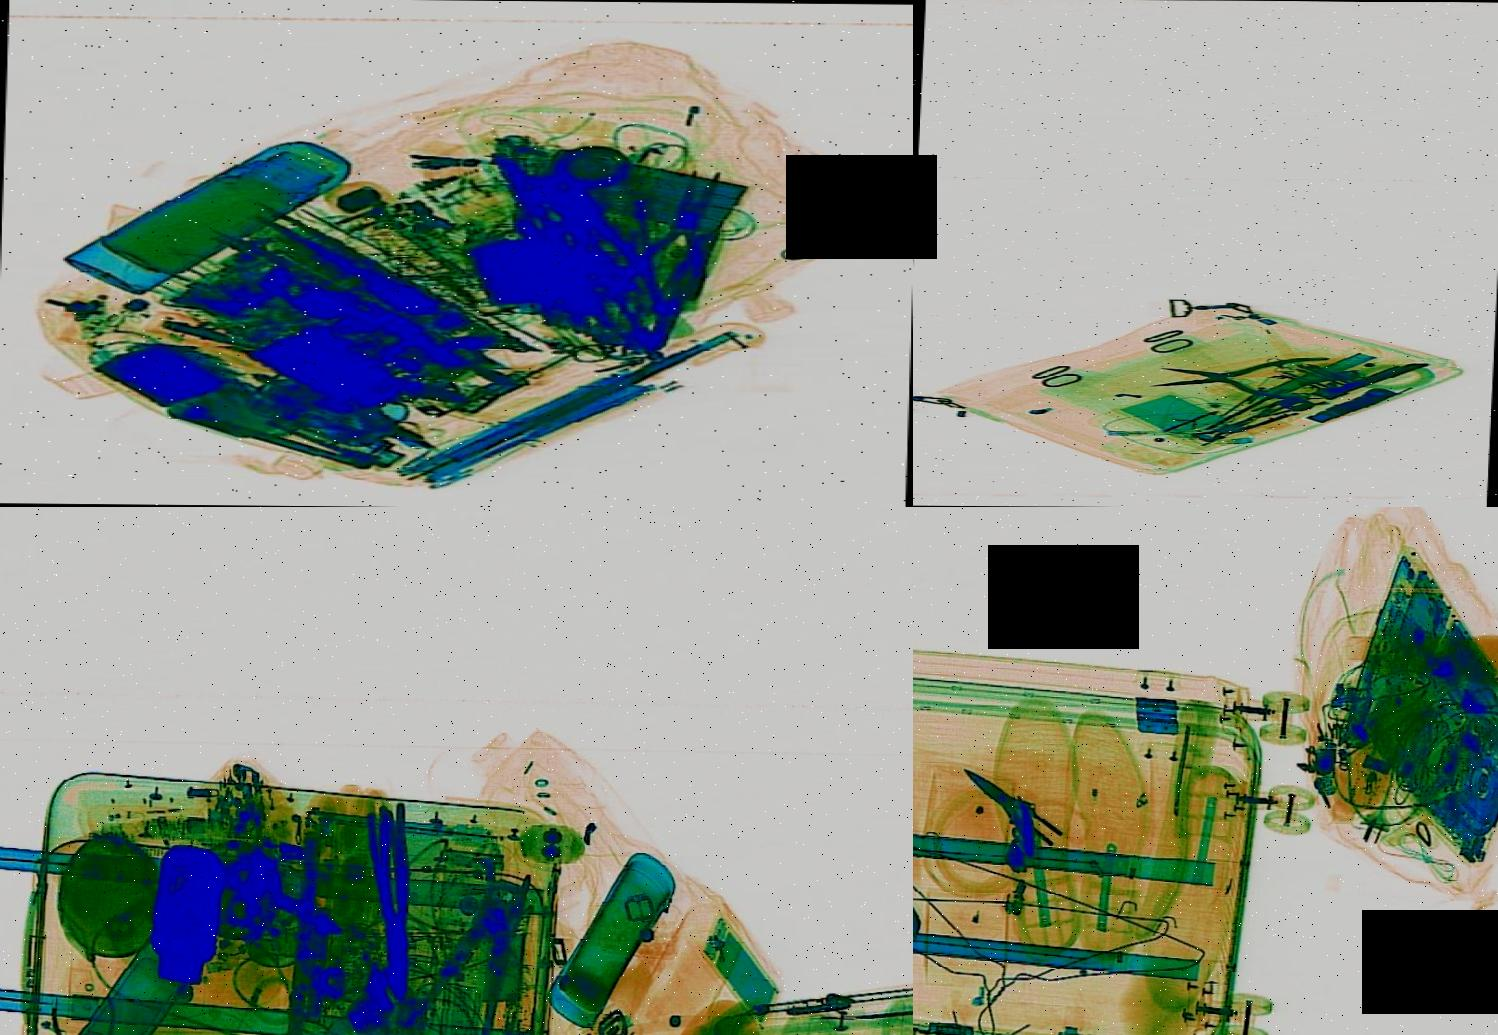Pliers: (612, 165, 748, 294), (358, 803, 422, 1002), (1143, 346, 1327, 402), (948, 760, 1070, 844)
